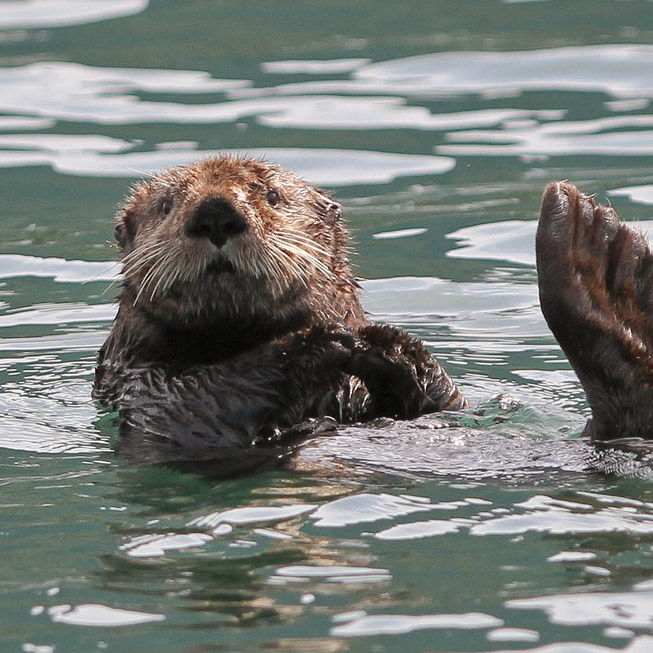otter: (86, 107, 523, 493)
